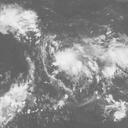cyclone: (52, 46, 97, 87)
